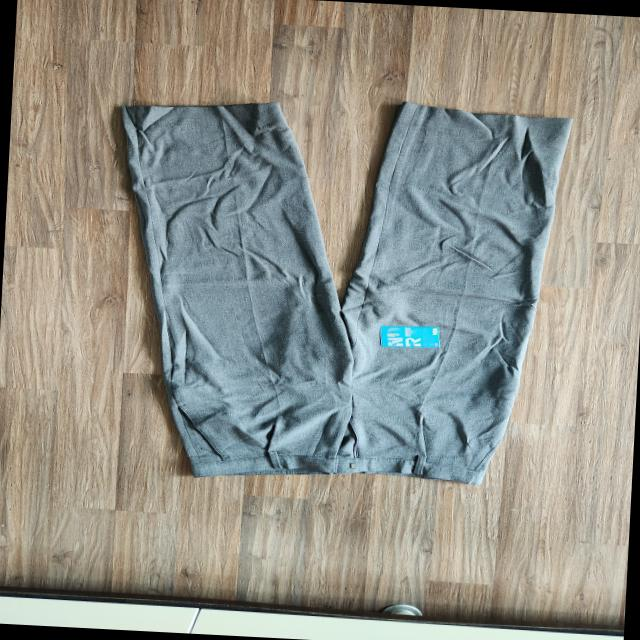card: (380, 325, 439, 347)
